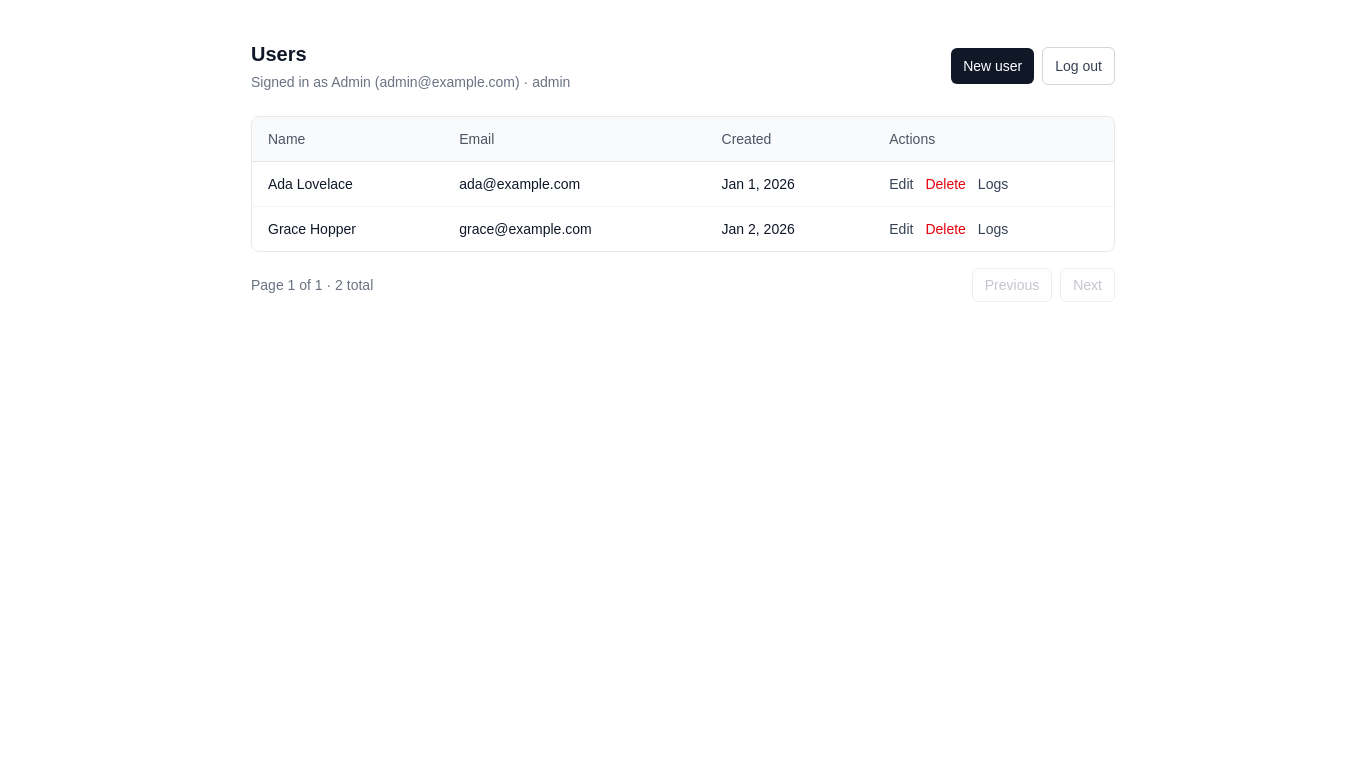
Scenario: admin can open the create modal via New user
The width and height of the screenshot is (1366, 768).
Expected: the text "Ada Lovelace" is shown, [252, 162, 443, 206]
Click the button "New user". click: (993,66)
box: [951, 48, 1034, 84]
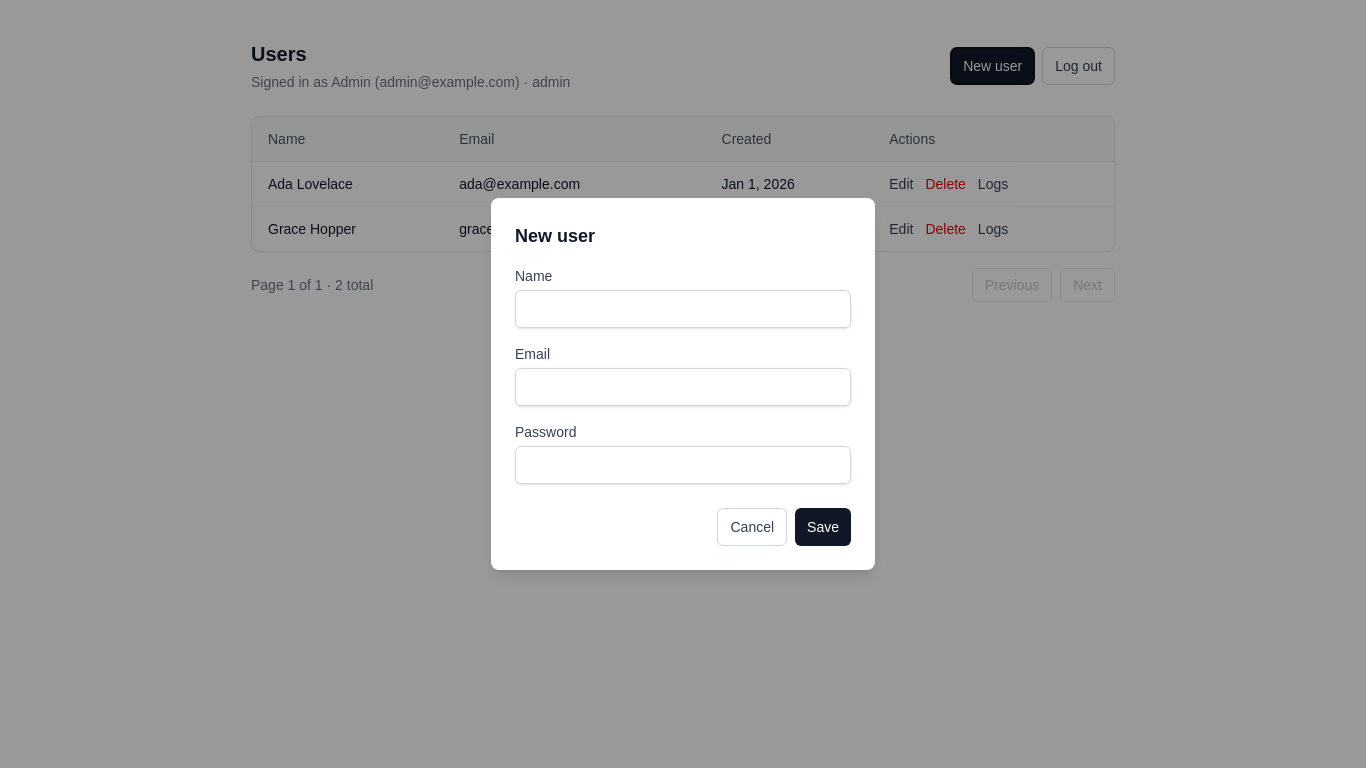
Expected: the heading "New user" is shown, [515, 226, 595, 246]
